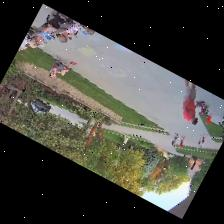person: (183, 80, 197, 124), (59, 24, 87, 42), (49, 61, 76, 77), (18, 39, 37, 50), (201, 134, 207, 147), (179, 136, 185, 148), (197, 135, 202, 148), (86, 27, 95, 34), (173, 134, 178, 145)
